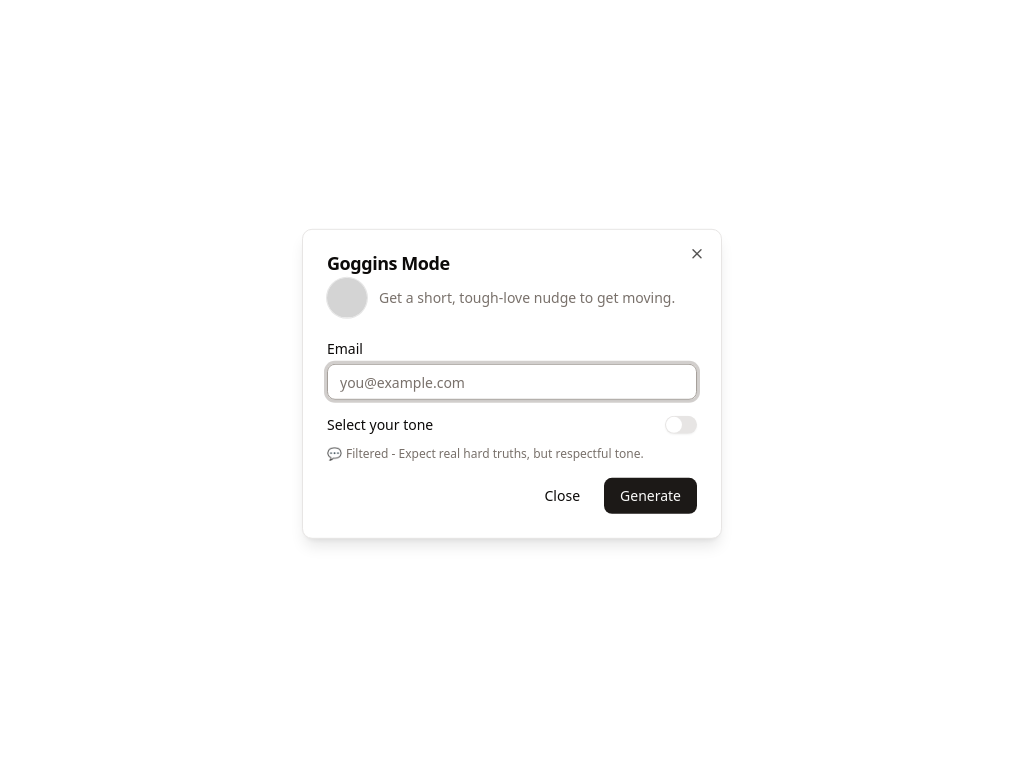
it: GogginsDialog - rate limit paths › over the limit: RATE_LIMITED error shows the message and counts down from resetTime
Type "rl@test.com" into the field labelled "Email" at (512, 382), box [327, 364, 697, 400]
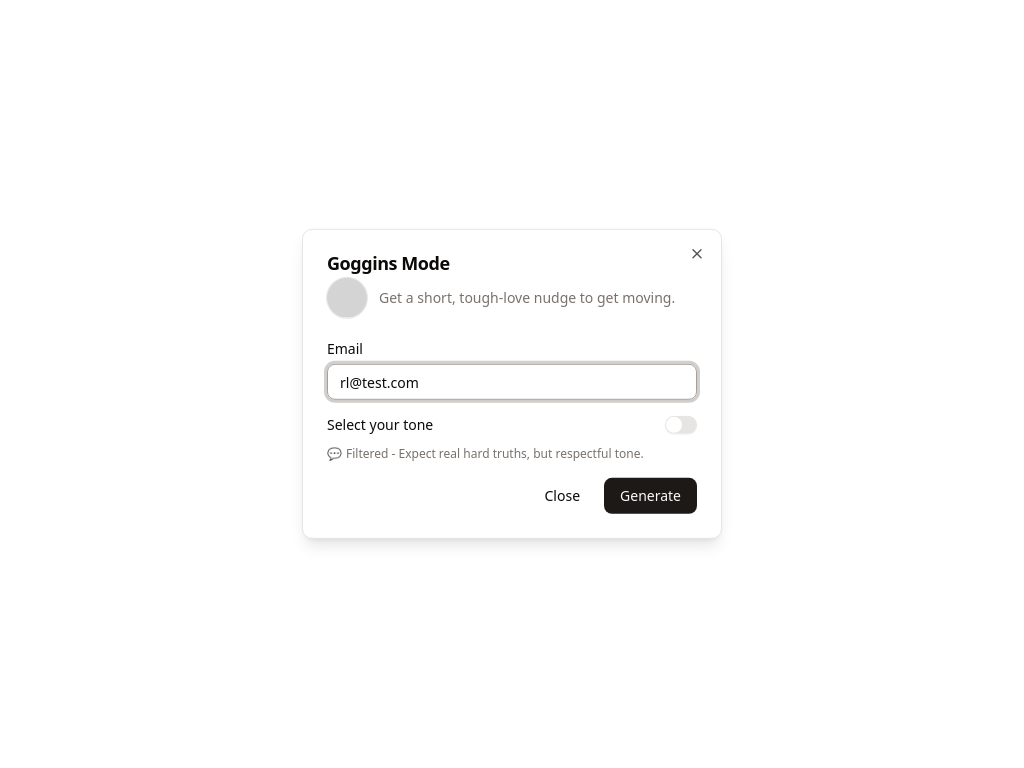
Click the button "Generate" at (650, 496), box [604, 478, 697, 514]
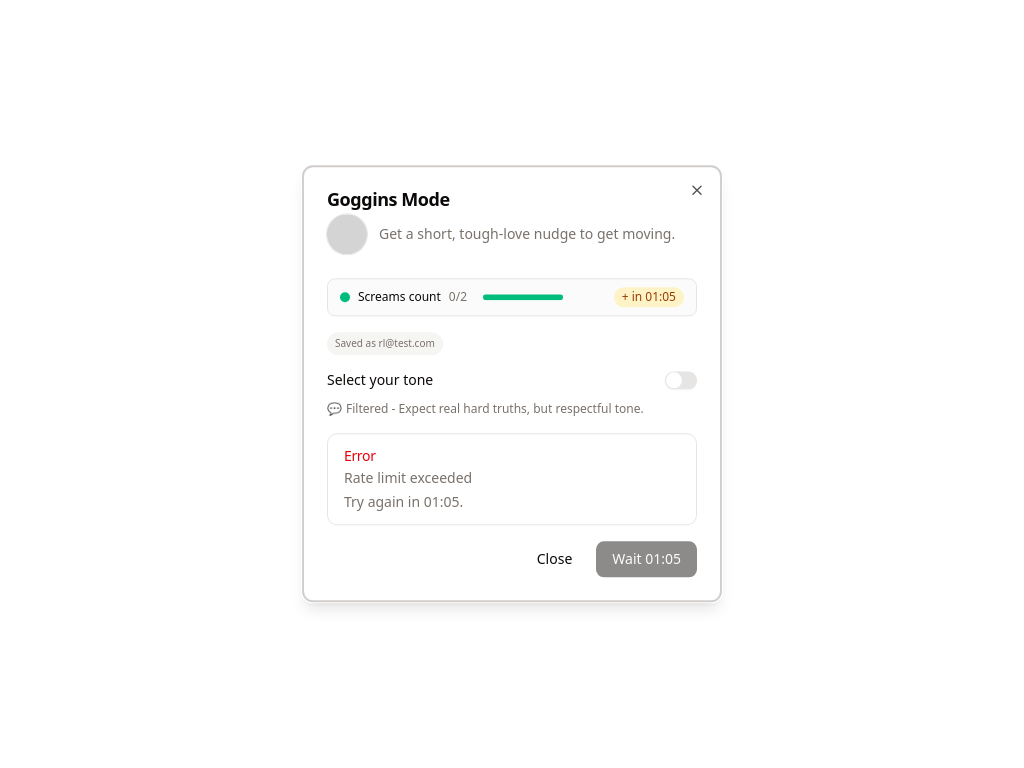
expect the text "Rate limit exceeded Try again in 01:05." is shown: met, box [344, 469, 472, 512]
expect the text "Try again in 01:05." is shown: met, box [344, 493, 463, 513]
expect the text "0/2" is shown: met, box [449, 289, 467, 305]
